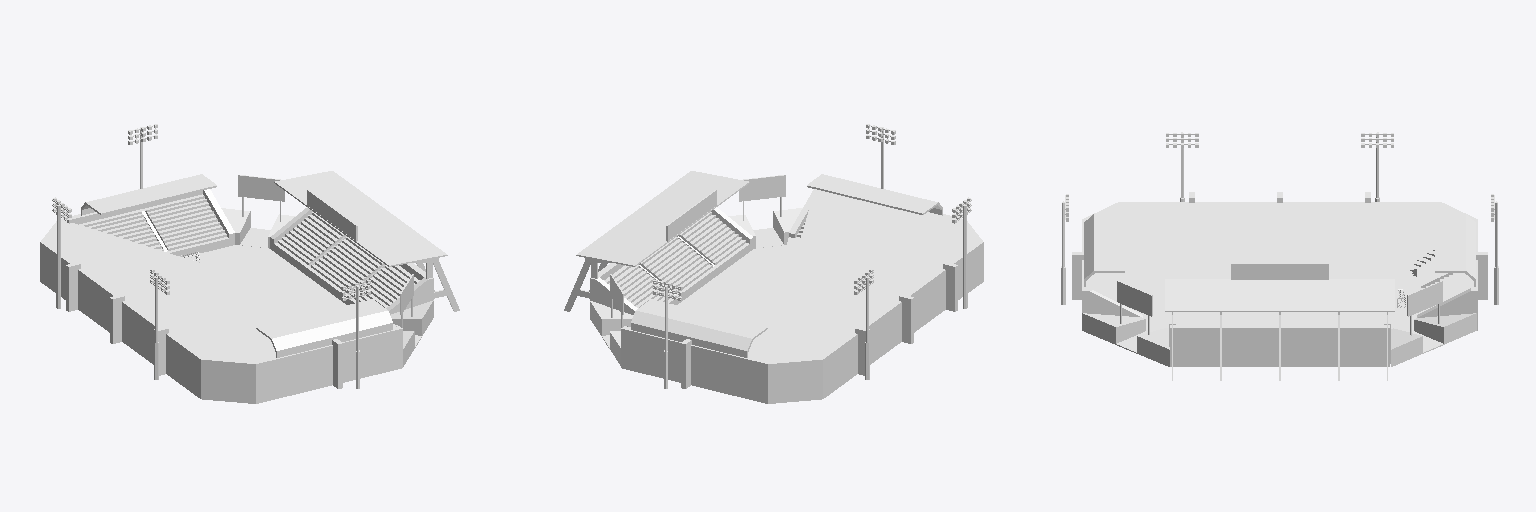
File: Building_Stadium.obj
The picture shows the model from 3 angles: view 1: azimuth 30°, elevation 25°; view 2: azimuth 150°, elevation 25°; view 3: azimuth 270°, elevation 25°; orthographic projection.
Bounding box in the file's own units: 3546 × 1173 × 4476.